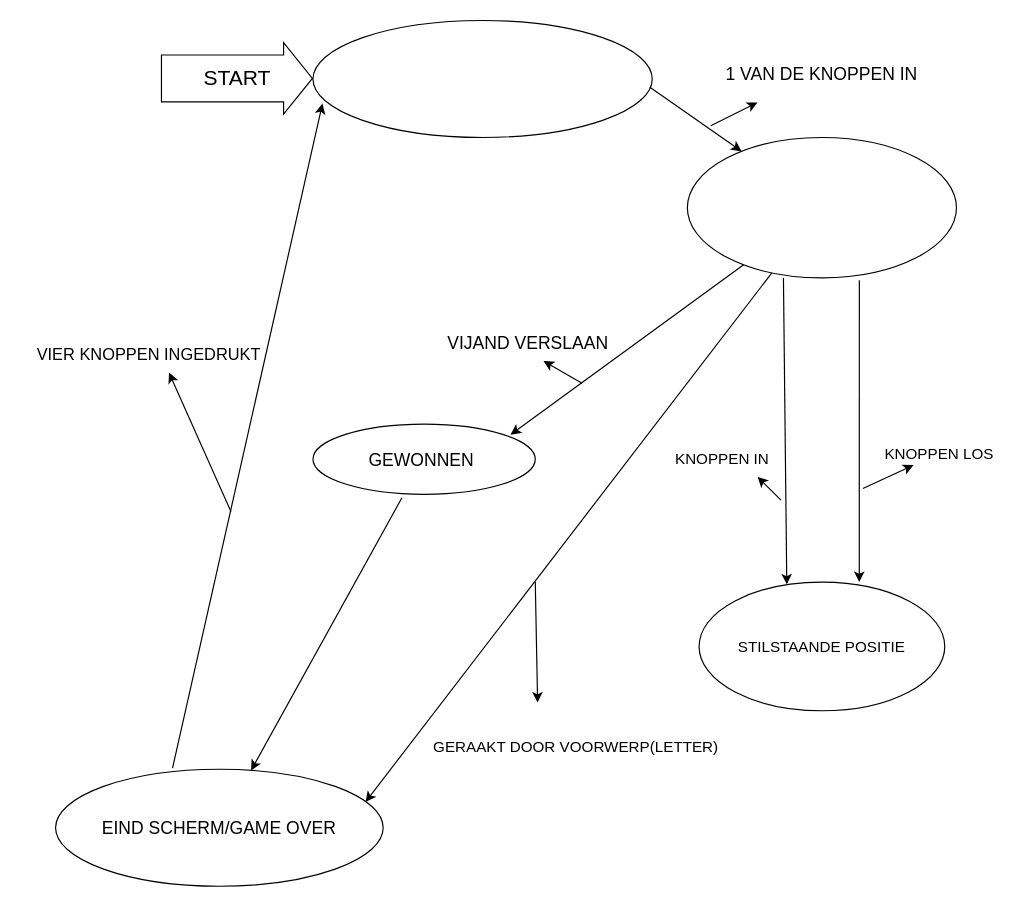
This 1023x907 diagram has some shape labels left out. The centre of each missing label's shape, as x and y in pixels:
BEWEEG VOORUIT/ACHTERUIT OF BEWEEG OMHOOG/OMLAAG .: point (821, 207)
BLIJF STAAN OP POSITIE. KNOPPEN LOS.: point (482, 78)
